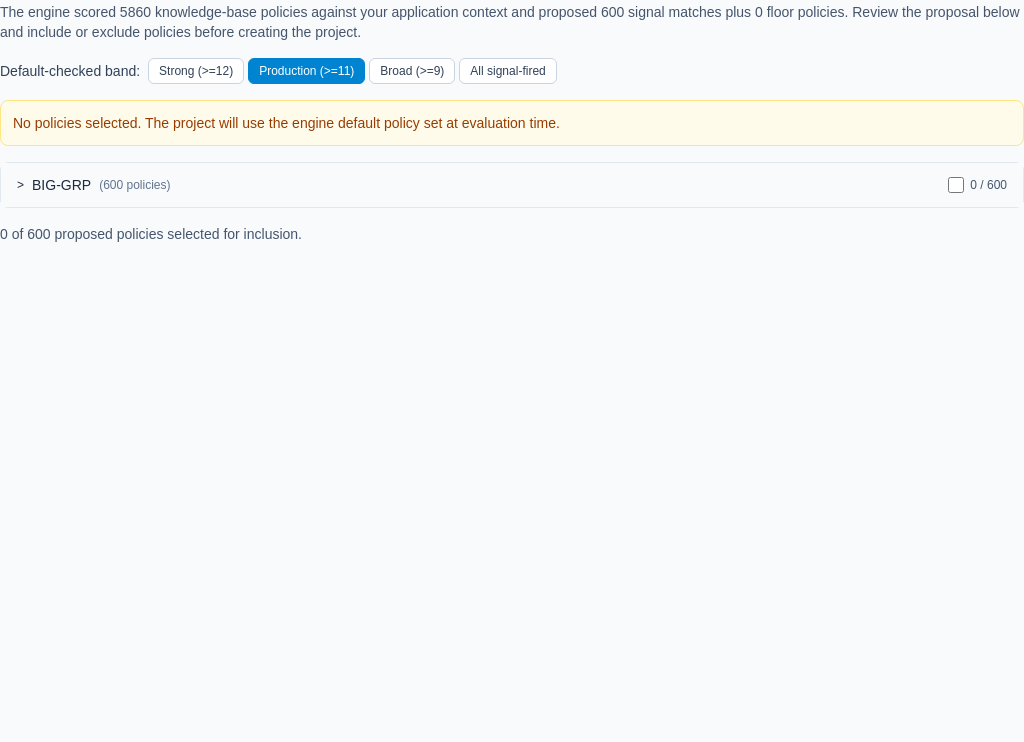
Test case: ApplicablePolicyStep › renders large groups (>300) in slices with a 'show more' control
Expand the group.
Step 1. Click the button "> BIG-GRP (600 policies)" → [62, 185], box [17,175,940,195]
(page scrolled)
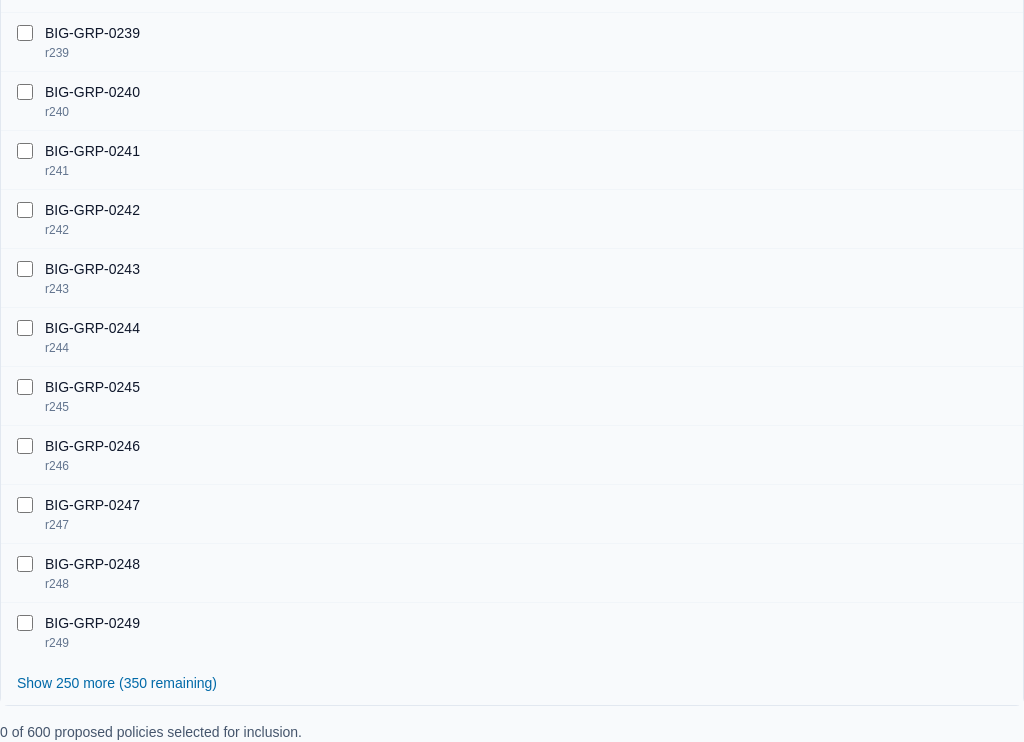
Expected: the text "BIG-GRP-0249" is shown, [45,615,140,631]
The "show more" control is present.
Step 2. Click the button "Show 250 more (350 remaining)" → [117, 683], box [17,673,217,693]
(page scrolled)
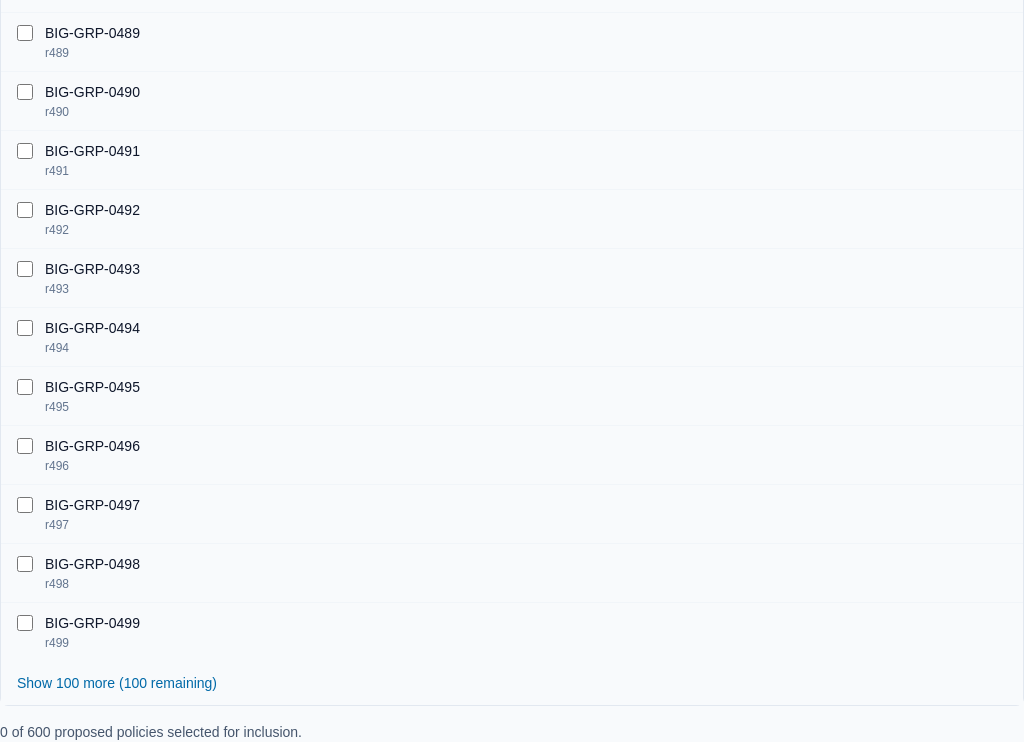
Expected: the text "BIG-GRP-0499" is shown, [45,615,140,631]
Expected: the button "Show 100 more (100 remaining)" is shown, [17,673,217,693]
